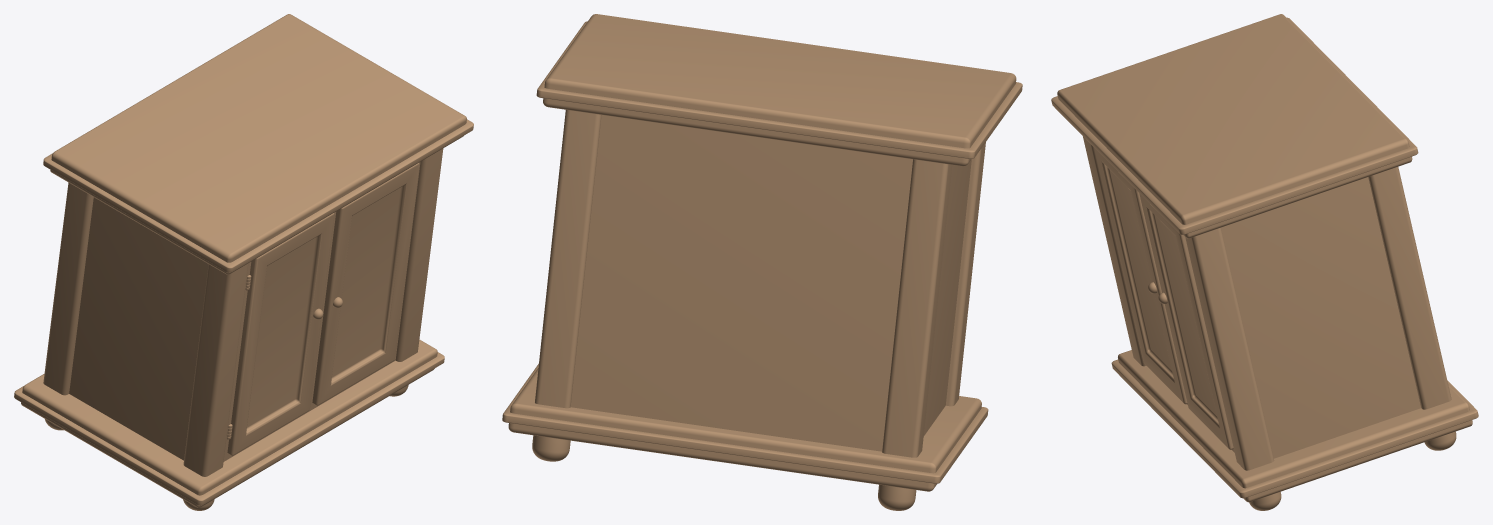
The model's file is cabinet-library-v0.glb.
3 renders of one model, left to right at view 1: azimuth 30°, elevation 25°; view 2: azimuth 150°, elevation 25°; view 3: azimuth 270°, elevation 25°, orthographic. The views are drawn at different scales.
Parts seen in each view (by area): view 1: Cube.028, Cube.032, Cube.030, Cube.029, Cube.031, Cube.033, Cube.101; view 2: Cube.030, Cube.028, Cube.029, Cube.031, Cube.033, Cube.101, Cylinder.003; view 3: Cube.028, Cube.030, Cube.029, Cube.032, Cube.031, Cube.033, Cube.101, Cylinder.003.
Part boxes in pixels (<box>): Cube.028: <box>50,14,466,274</box>; Cube.032: <box>227,163,419,455</box>; Cube.030: <box>69,162,420,461</box>; Cube.029: <box>43,148,443,476</box>; Cube.031: <box>21,339,437,507</box>; Cube.033: <box>43,119,473,272</box>; Cube.101: <box>14,352,444,505</box>; Cube.030: <box>570,115,971,451</box>; Cube.028: <box>543,14,1016,166</box>; Cube.029: <box>535,110,985,457</box>; Cube.031: <box>508,368,981,491</box>; Cube.033: <box>536,21,1022,158</box>; Cube.101: <box>502,363,988,483</box>; Cylinder.003: <box>532,435,916,510</box>; Cube.028: <box>1057,14,1412,238</box>; Cube.030: <box>1187,177,1420,458</box>; Cube.029: <box>1083,136,1451,470</box>; Cube.032: <box>1094,148,1233,449</box>; Cube.031: <box>1118,350,1472,502</box>; Cube.033: <box>1051,17,1418,234</box>; Cube.101: <box>1111,359,1478,498</box>; Cylinder.003: <box>1249,431,1456,510</box>.
Size of the model in its own units: 1.74 by 1.57 by 1.64.
